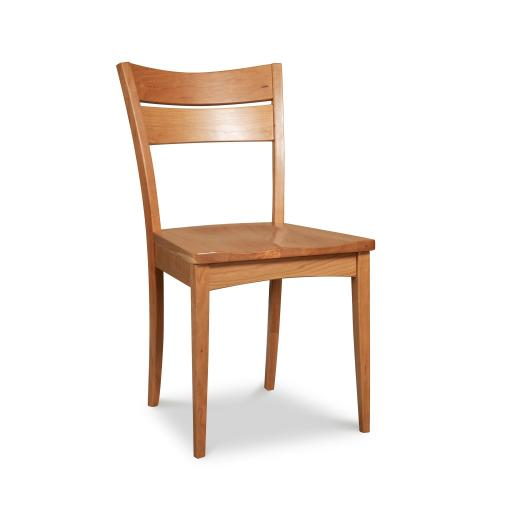chair: (100, 58, 385, 458)
